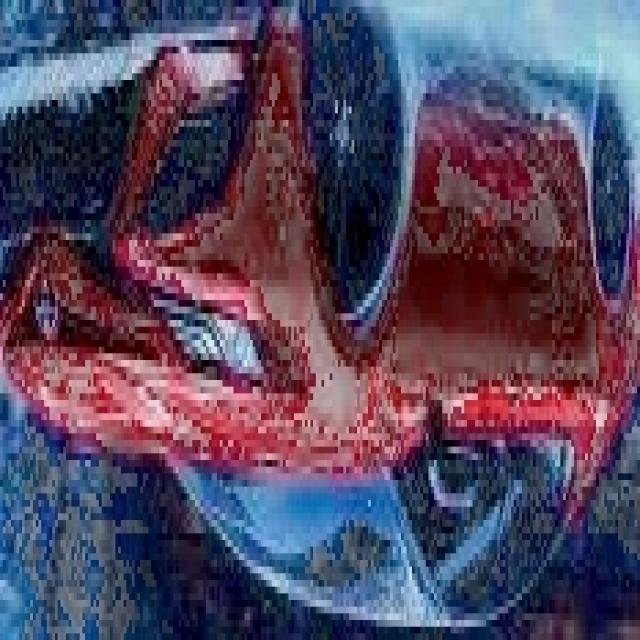maroon: (0, 33, 635, 627)
